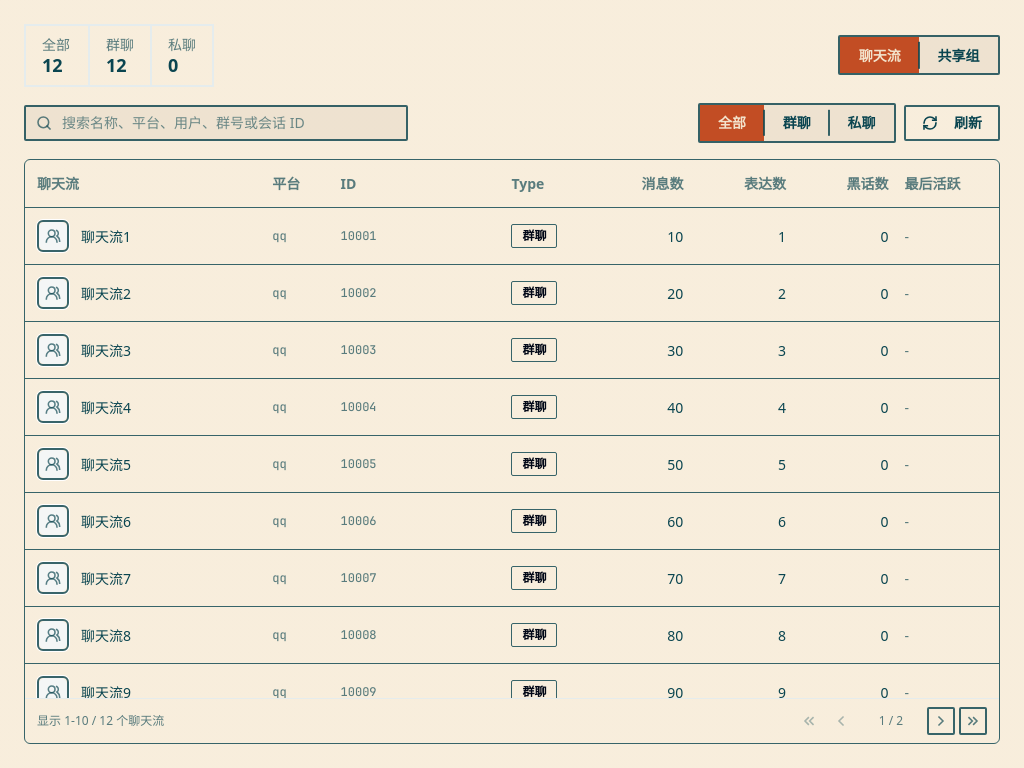
it: ChatManagementPage 聊天流列表 › 分页：每页 10 条，翻页按钮与边界禁用状态正确
Expected: the text "显示 1-10 / 12 个聊天流" is shown, [37,712,164,730]
Expected: the text "1 / 2" is shown, [879,712,903,729]
Click the button named "下一页" at (941,721), box [927,707,955,735]
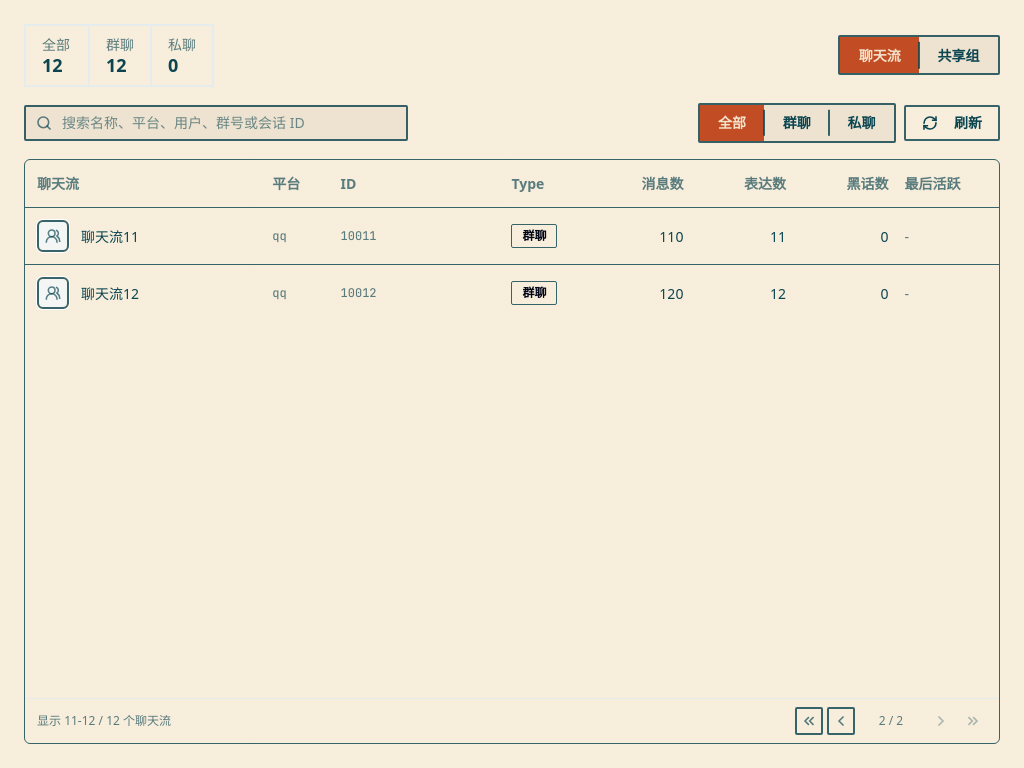
Expected: the text "显示 11-12 / 12 个聊天流" is shown, [37,712,171,730]
Expected: the text "聊天流11" is shown, [81,227,139,246]
Expected: the button named "最后一页" is disabled, [959,707,987,735]
Click the button named "第一页" at (809,721), box [795,707,823,735]
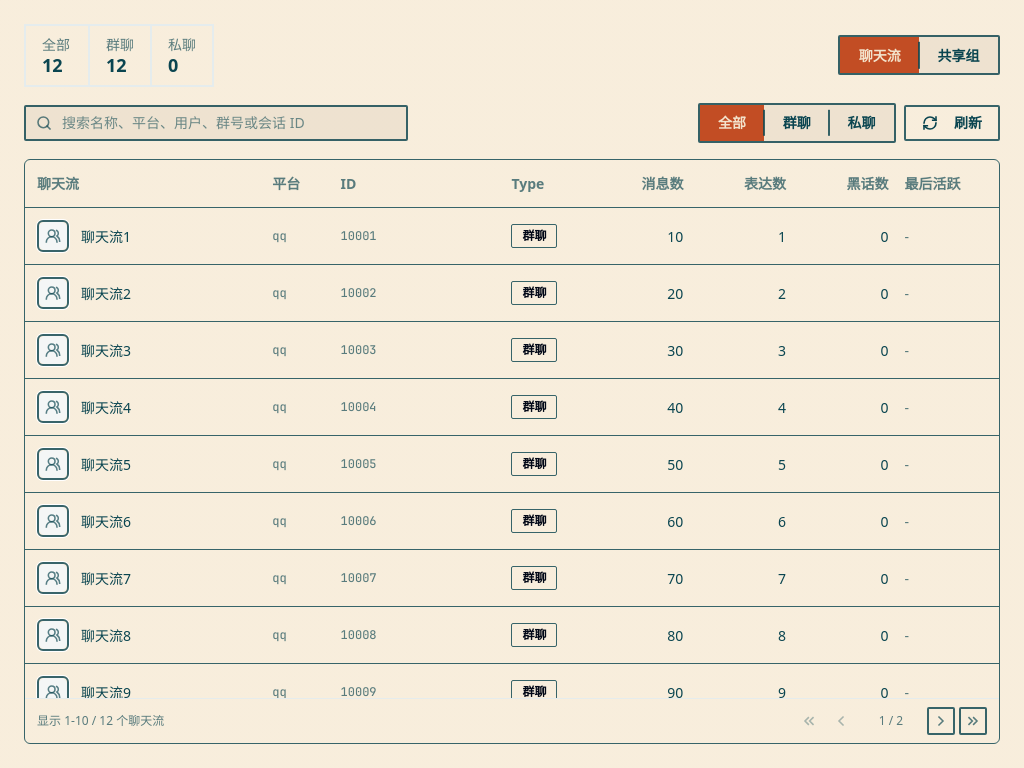
Expected: the text "显示 1-10 / 12 个聊天流" is shown, [37,712,164,730]
